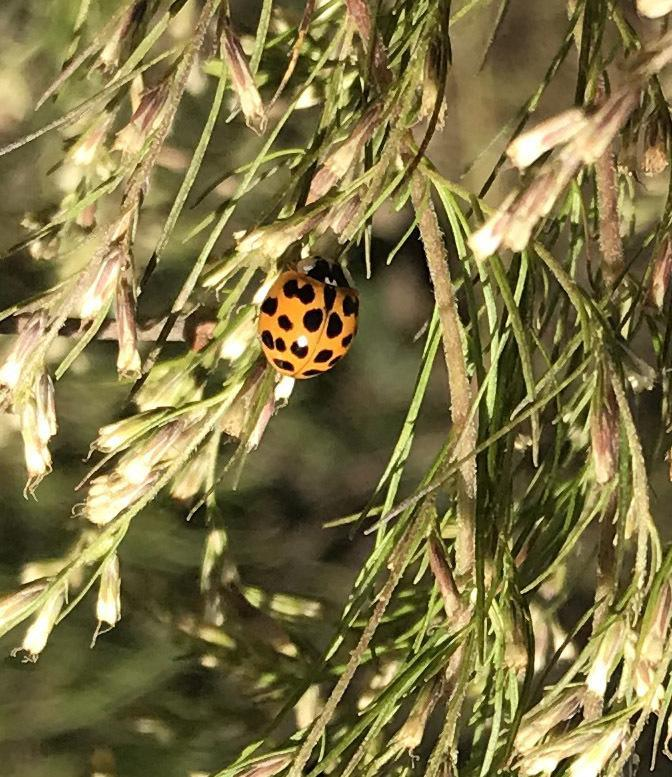ladybug: (251, 251, 367, 383)
